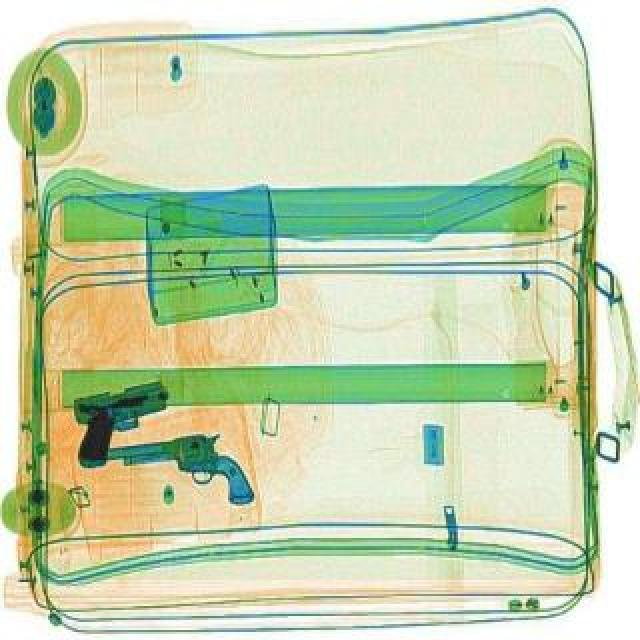gun: (70, 422, 258, 528), (52, 372, 180, 472)
